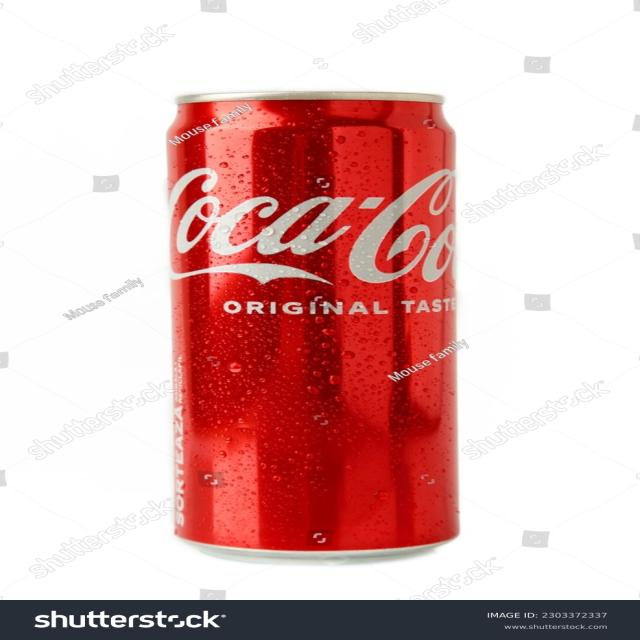cocacola: (148, 89, 476, 560)
